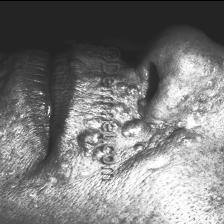Unclassified: (178, 64, 224, 154), (0, 164, 82, 208), (74, 58, 100, 162), (118, 116, 156, 162), (115, 80, 136, 116)
